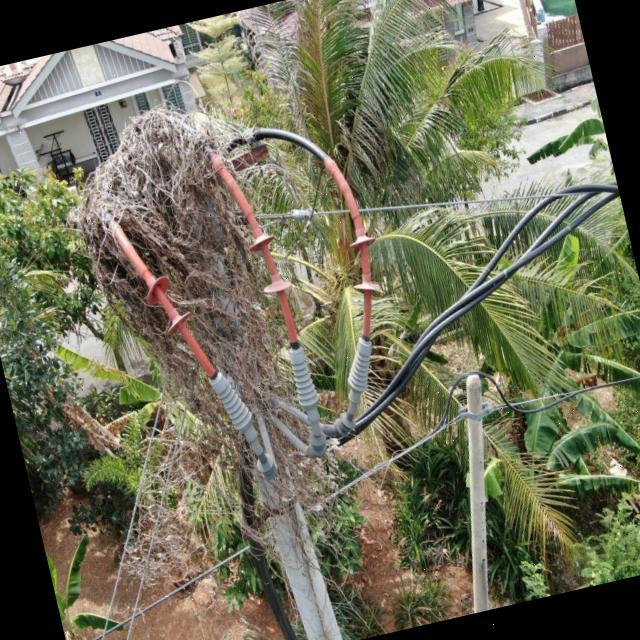critical vegetation: (40, 73, 345, 540)
